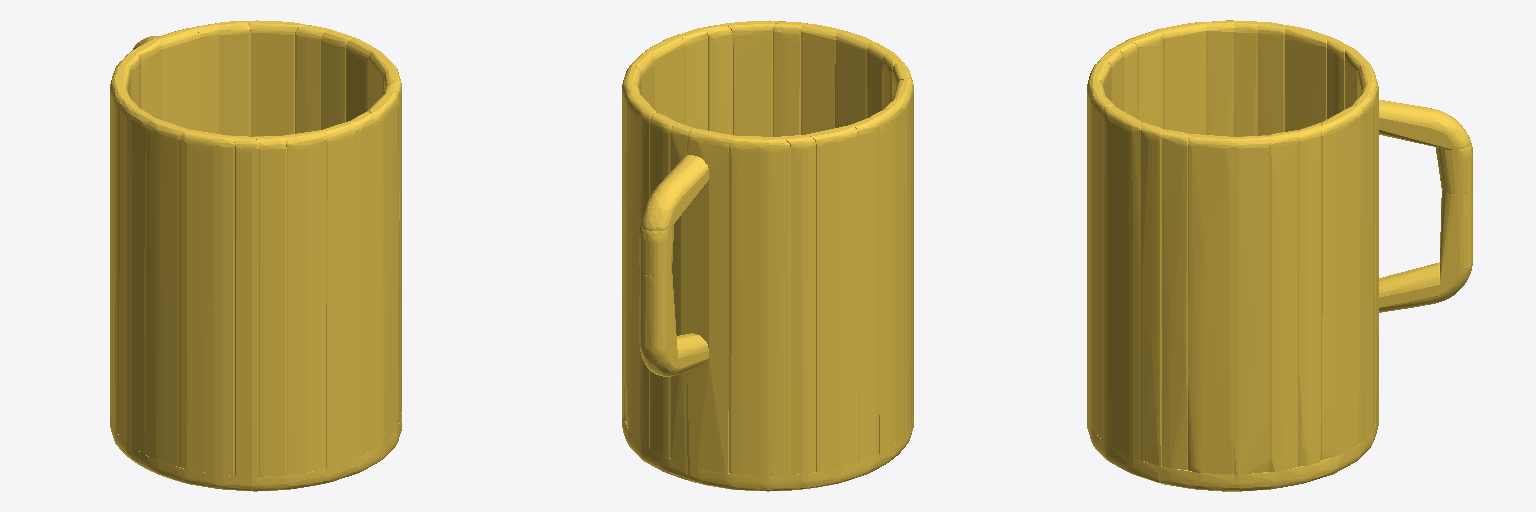
The robot description file, URDF, robot "944.urdf":
<?xml version="1.0" ?>
<robot name="944.urdf">
	<link name="baseLink">
		<inertial>
			<origin rpy="0 0 0" xyz="0 0 0"/>
				<mass value="0.1"/>
				<inertia ixx="6e-5" ixy="0" ixz="0" iyy="6e-5" iyz="0" izz="6e-5"/>
		</inertial>
		<visual>
			<origin rpy="0 0 0" xyz="0 0 0"/>
			<geometry>
				<mesh filename="39_decom_wt.obj" scale="0.93 0.93 0.94"/>
			</geometry>
			<material name="yellow">
				<color rgba="0.98 0.84 0.35 1"/>
			</material>
		</visual>
		<collision>
			<origin rpy="0 0 0" xyz="0 0 0"/>
			<geometry>
				<mesh filename="39_decom_wt.obj" scale="0.93 0.93 0.94"/>
			</geometry>
		</collision>
	</link>
</robot>

--- Facts derived from the render (not from the file) ---
The picture shows the robot from 3 angles, left to right: view 1: azimuth 30°, elevation 25°; view 2: azimuth 150°, elevation 25°; view 3: azimuth 270°, elevation 25°; orthographic projection.
Robot: 944.urdf — 1 links, 0 joints (none); root link baseLink; default pose: every joint at zero.
Visible links, largest first — view 1: baseLink; view 2: baseLink; view 3: baseLink.
Link boxes in pixels (x1,y1,x2,y2): baseLink: (110,20,401,491); baseLink: (622,20,913,491); baseLink: (1087,20,1472,491).
Size in the robot's own frame: 0.098 by 0.1297 by 0.1311 metres.
Meshes: 1 distinct files referenced, 1 mesh visuals loaded (1 OBJ).